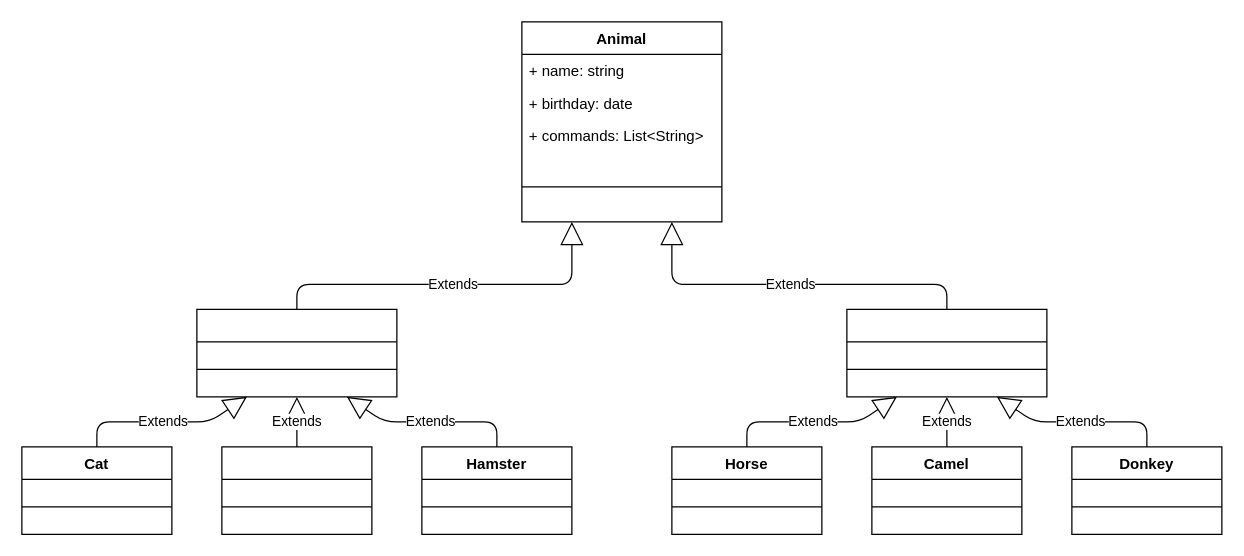
This 1244x556 diagram has some shape labels left out. The box of each missing label's shape, as (x1, y1, x2, y2) in pixels:
Dog: (221, 446, 372, 534)
HomeAnimal: (196, 308, 397, 397)
PackAnimal: (846, 308, 1047, 397)
